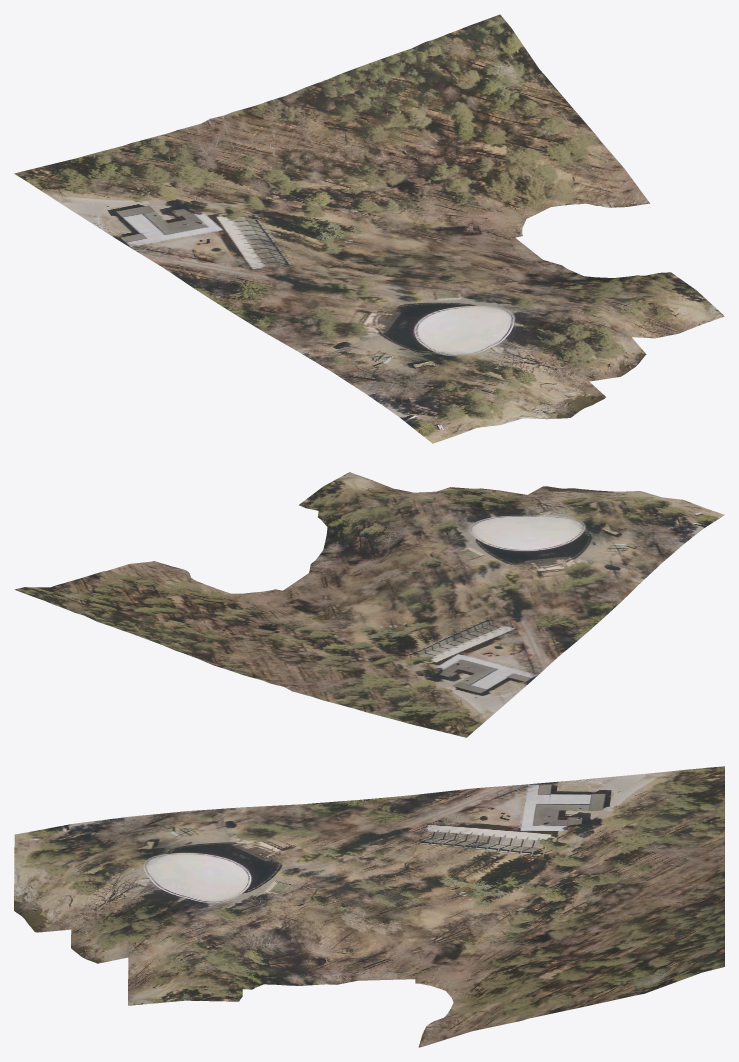
The model's file is CM_Terrain_24485954_6820204.fbx.
3 renders of one model, top to bottom at view 1: azimuth 30°, elevation 25°; view 2: azimuth 150°, elevation 25°; view 3: azimuth 270°, elevation 25°, orthographic. The views are drawn at different scales.
Parts seen in each view (by area): view 1: CM_Terrain_24485954_6820204_LOD0; view 2: CM_Terrain_24485954_6820204_LOD0; view 3: CM_Terrain_24485954_6820204_LOD0.
Part boxes in pixels (left/top/right/bottom): CM_Terrain_24485954_6820204_LOD0: left=14, top=14, right=724, bottom=443; CM_Terrain_24485954_6820204_LOD0: left=14, top=472, right=724, bottom=737; CM_Terrain_24485954_6820204_LOD0: left=14, top=766, right=724, bottom=1047.
Size of what is drawn, in the model's own units: 150 by 23.75 by 186.
